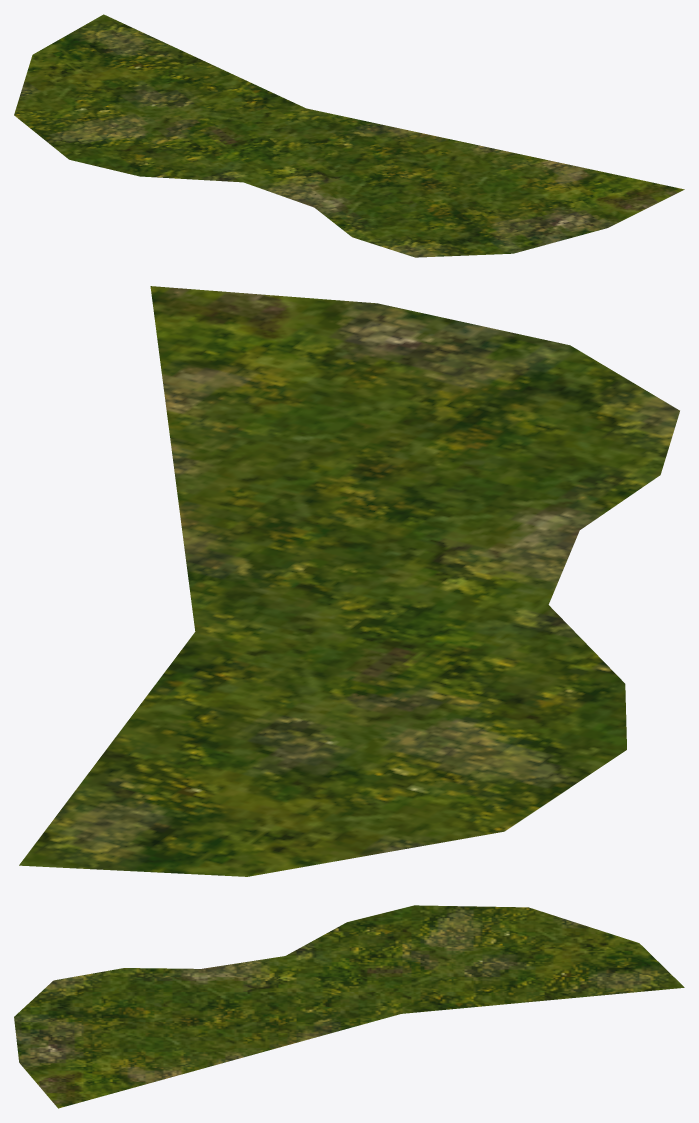
Rendered from OVERHILL_A_01_OBJECT37.fbx.
3 views of the same model, one above another, from view 1: azimuth 30°, elevation 25°; view 2: azimuth 150°, elevation 25°; view 3: azimuth 270°, elevation 25° (orthographic). The views are drawn at different scales.
Visible parts, largest first — view 1: OVERHILL_A_01_OBJECT37; view 2: OVERHILL_A_01_OBJECT37; view 3: OVERHILL_A_01_OBJECT37.
Boxes of the visible parts, left/top/right/bottom form: OVERHILL_A_01_OBJECT37: left=14, top=14, right=684, bottom=257; OVERHILL_A_01_OBJECT37: left=19, top=286, right=679, bottom=876; OVERHILL_A_01_OBJECT37: left=14, top=905, right=684, bottom=1108.
Bounding box in the file's own units: 25430 × 0.0651 × 35494.
Materials: 1 (1 with a texture image).
